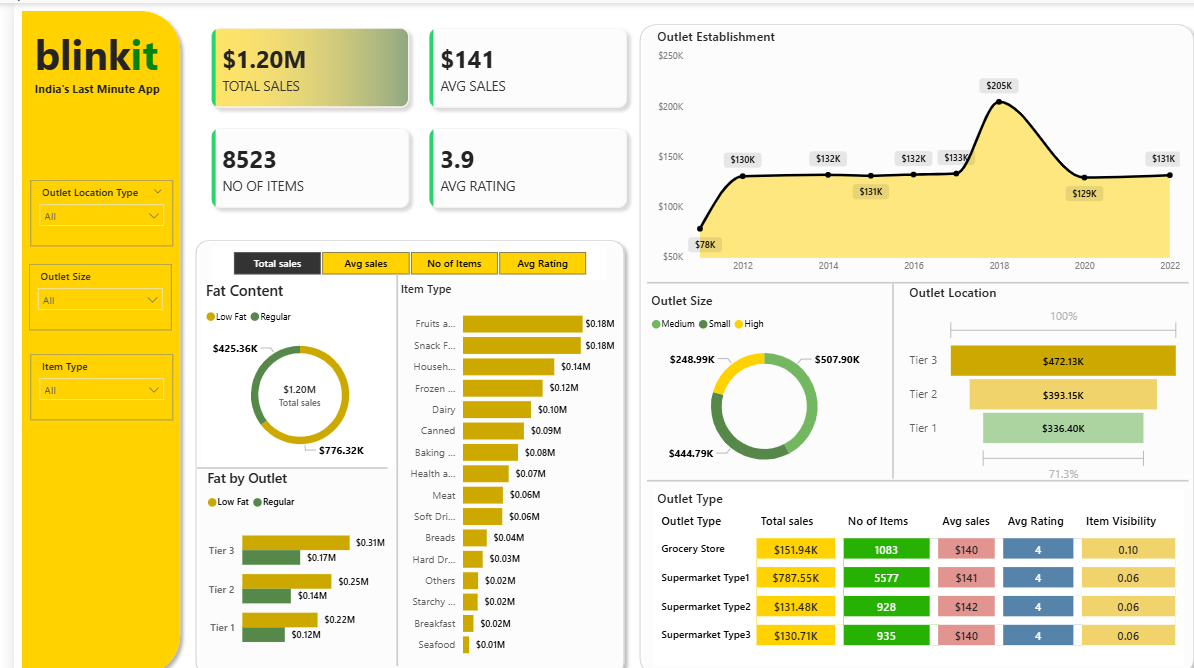

This screenshot's page, from the dashboard's own definition file:
{"tool":"powerbi","page":{"name":"Page 1","canvas":[1400,800],"ordinal":0},"visuals":[{"type":"shape","box":[0,0,205,800.6],"z":0},{"type":"textbox","box":[19.4,21.2,183.8,81.3],"z":1000},{"type":"textbox","box":[19.4,86.6,183.8,31.8],"z":2000},{"type":"cardVisual","fields":{"Data":["bliinkit data.Total sales","bliinkit data.Avg sales","bliinkit data.No of Items","bliinkit data.Avg Rating"]},"box":[203.2,0,549.6,270.4],"z":3000},{"type":"shape","box":[205,270.4,523.1,530.2],"z":4000},{"type":"donutChart","title":"Fat Content","fields":{"Y":["bliinkit data.Total sales"],"Category":["bliinkit data.Item Fat Content"]},"box":[220.9,327,231.5,219.2],"z":5000},{"type":"slicer","fields":{"Values":["Metrics.Metrics"]},"box":[233.3,286.3,464.8,40.6],"z":6000},{"type":"cardVisual","fields":{"Data":["bliinkit data.Total sales"]},"box":[295.1,436.5,83.1,51.3],"z":7000},{"type":"clusteredBarChart","title":"Fat by Outlet","fields":{"Y":["bliinkit data.Total sales"],"Category":["bliinkit data.Outlet Location Type"],"Series":["bliinkit data.Item Fat Content"]},"box":[222.7,547.9,219.2,229.8],"z":8000},{"type":"shape","box":[215.6,535.5,224.5,24.7],"z":9000},{"type":"shape","box":[441.8,319.9,19.4,461.3],"z":10000},{"type":"barChart","title":"Item Type","fields":{"Y":["bliinkit data.Total sales"],"Category":["bliinkit data.Item Type"]},"box":[450.7,327,261.6,454.2],"z":11000},{"type":"shape","box":[728.1,15.9,671.6,784.7],"z":12000},{"type":"lineChart","title":"Outlet Establishment ","fields":{"Category":["bliinkit data.Outlet Establishment Year"],"Y":["bliinkit data.Total sales"]},"box":[752.9,28.3,625.6,298.7],"z":13000},{"type":"shape","box":[745.8,319.9,638,19.4],"z":14000},{"type":"donutChart","title":"Outlet Size","fields":{"Y":["bliinkit data.Total sales"],"Category":["bliinkit data.Outlet Size"]},"box":[745.8,339.3,275.7,224.5],"z":15000},{"type":"funnel","title":"Outlet Location ","fields":{"Y":["bliinkit data.Total sales"],"Category":["bliinkit data.Outlet Location Type"]},"box":[1049.8,330.5,328.7,240.4],"z":16000},{"type":"shape","box":[1021.5,330.5,28.3,229.8],"z":17000},{"type":"shape","box":[745.8,553.2,638,19.4],"z":18000},{"type":"pivotTable","title":"Outlet Type","fields":{"Rows":["bliinkit data.Outlet Type"],"Values":["bliinkit data.Total sales","bliinkit data.No of Items","bliinkit data.Avg sales","bliinkit data.Avg Rating","Avg(bliinkit data.Item Visibility)"]},"box":[752.9,572.6,625.6,208.5],"z":19000},{"type":"slicer","fields":{"Values":["bliinkit data.Outlet Location Type"]},"box":[19.4,208.5,167.9,77.8],"z":20000},{"type":"slicer","fields":{"Values":["bliinkit data.Outlet Size"]},"box":[17.7,307.5,167.9,77.8],"z":20001},{"type":"slicer","fields":{"Values":["bliinkit data.Item Type"]},"box":[19.4,413.6,167.9,77.8],"z":20002}]}

Visuals, with their boxes in screenshot pixels (x1, y1, x2, y2), scaled from the page's 1400x800 canvas onto the 1194x668 screenshot:
shape: crop(0, 0, 175, 667)
textbox: crop(17, 18, 173, 86)
textbox: crop(17, 72, 173, 99)
cardVisual - bliinkit data.Total sales x bliinkit data.Avg sales: crop(173, 0, 642, 226)
shape: crop(175, 226, 621, 667)
"Fat Content" donutChart: crop(188, 273, 386, 456)
slicer - Metrics.Metrics: crop(199, 239, 595, 273)
cardVisual - bliinkit data.Total sales: crop(252, 364, 323, 407)
"Fat by Outlet" clusteredBarChart: crop(190, 457, 377, 649)
shape: crop(184, 447, 375, 468)
shape: crop(377, 267, 393, 652)
"Item Type" barChart: crop(384, 273, 607, 652)
shape: crop(621, 13, 1193, 667)
"Outlet Establishment " lineChart: crop(642, 24, 1176, 273)
shape: crop(636, 267, 1180, 283)
"Outlet Size" donutChart: crop(636, 283, 871, 471)
"Outlet Location " funnel: crop(895, 276, 1176, 477)
shape: crop(871, 276, 895, 468)
shape: crop(636, 462, 1180, 478)
"Outlet Type" pivotTable: crop(642, 478, 1176, 652)
slicer - bliinkit data.Outlet Location Type: crop(17, 174, 160, 239)
slicer - bliinkit data.Outlet Size: crop(15, 257, 158, 322)
slicer - bliinkit data.Item Type: crop(17, 345, 160, 410)
